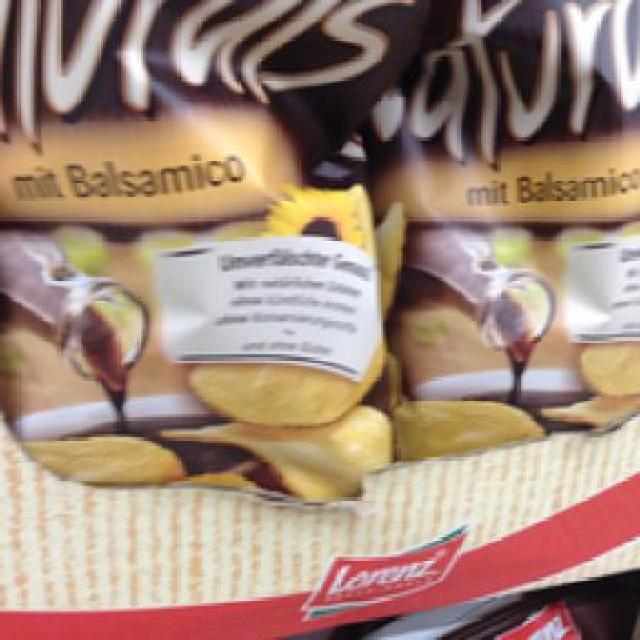Chips: (1, 1, 406, 464), (374, 1, 637, 457)
